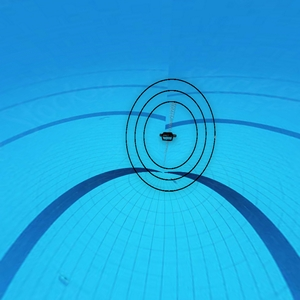circle: (123, 78, 217, 188)
submarine: (164, 134, 178, 146)
